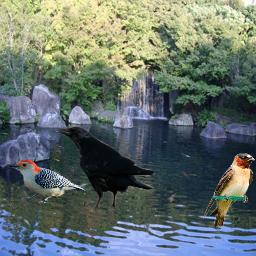Crow: (55, 125, 155, 215)
Swallow: (203, 153, 255, 227)
Woodpecker: (6, 160, 87, 204)
